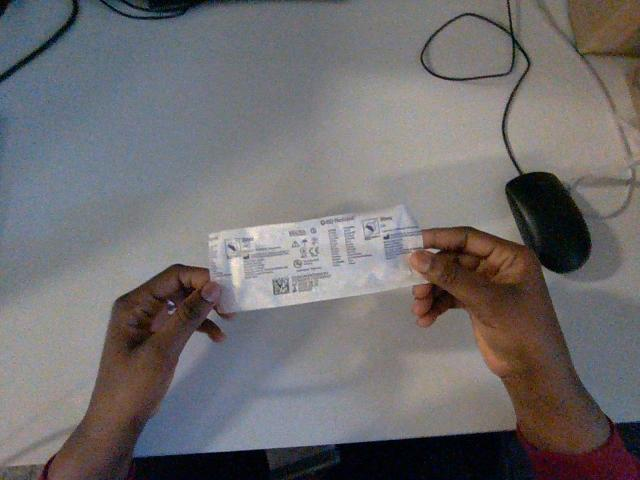syringe: (209, 206, 423, 311)
